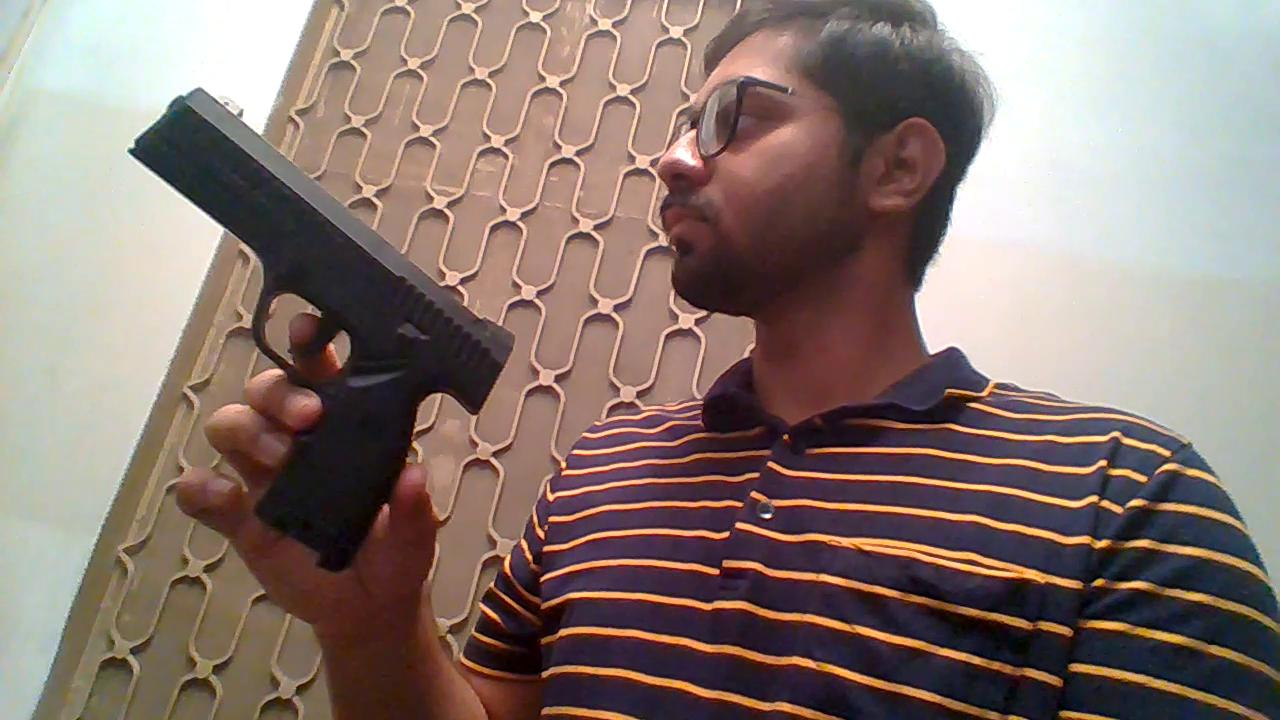criminal: (124, 0, 1280, 720)
weapon: (125, 86, 516, 573)
